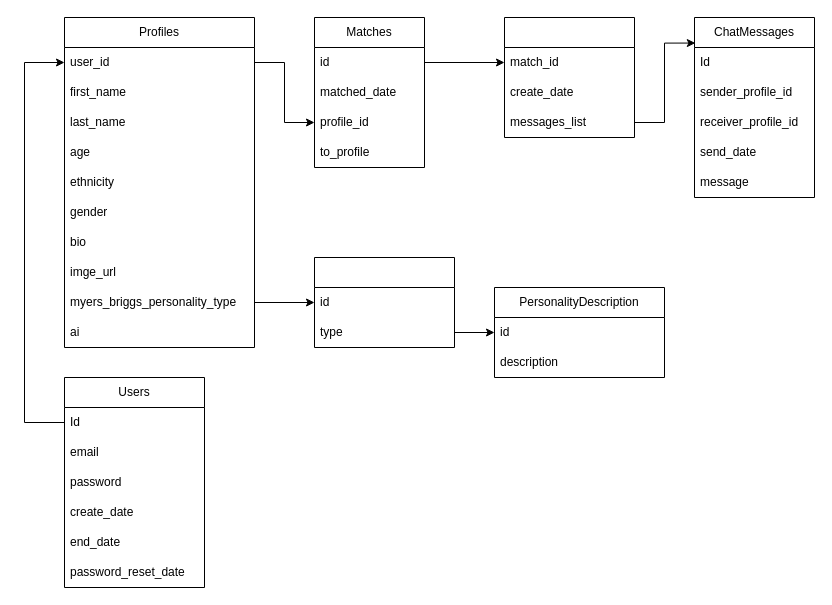
The diagram is 832 pixels wide and 605 high, and some of its shapes have lost their labels. Each missing label, with the box of its shape:
Conversations: (504, 16, 634, 138)
PersonalityTypes: (314, 256, 454, 348)
